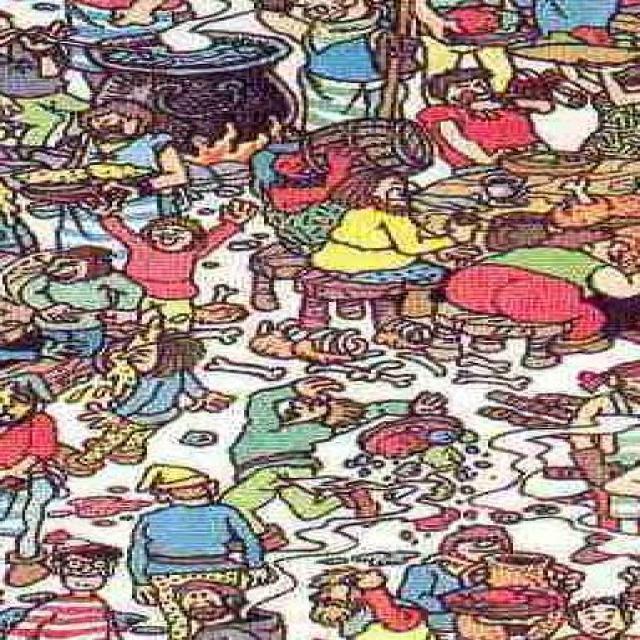waldo: (45, 528, 124, 591)
